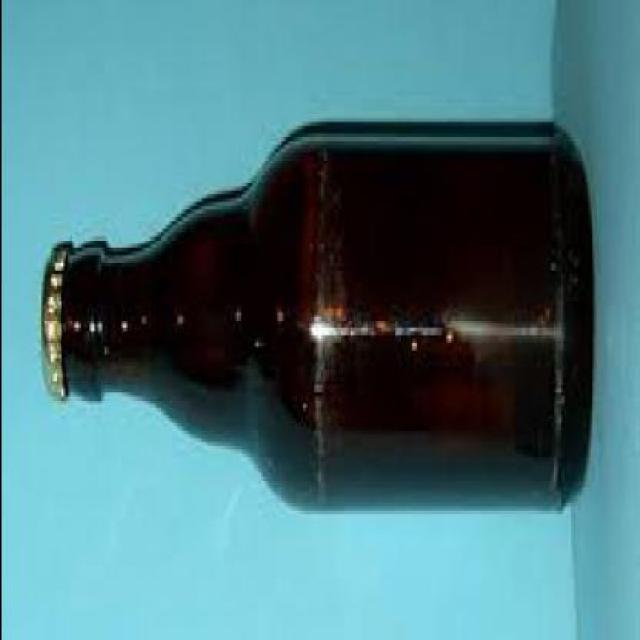GLASS: (60, 122, 589, 507)
METAL: (34, 240, 66, 392)
